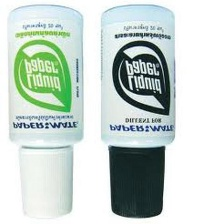correction_fluid: (97, 3, 178, 220), (5, 3, 84, 220)
